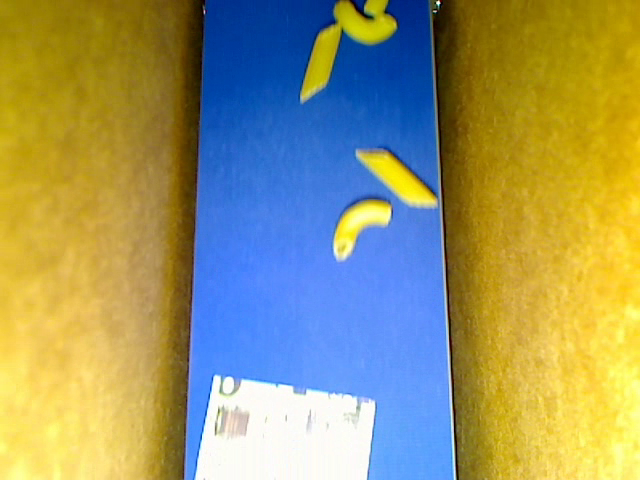elbow: (332, 200, 391, 262), (333, 1, 398, 46)
penne: (355, 149, 438, 208), (300, 22, 343, 102)
